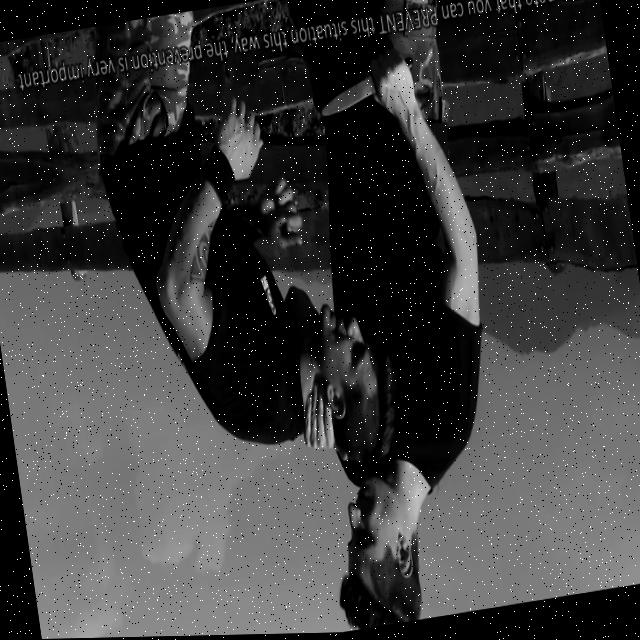knife: (312, 63, 379, 131)
